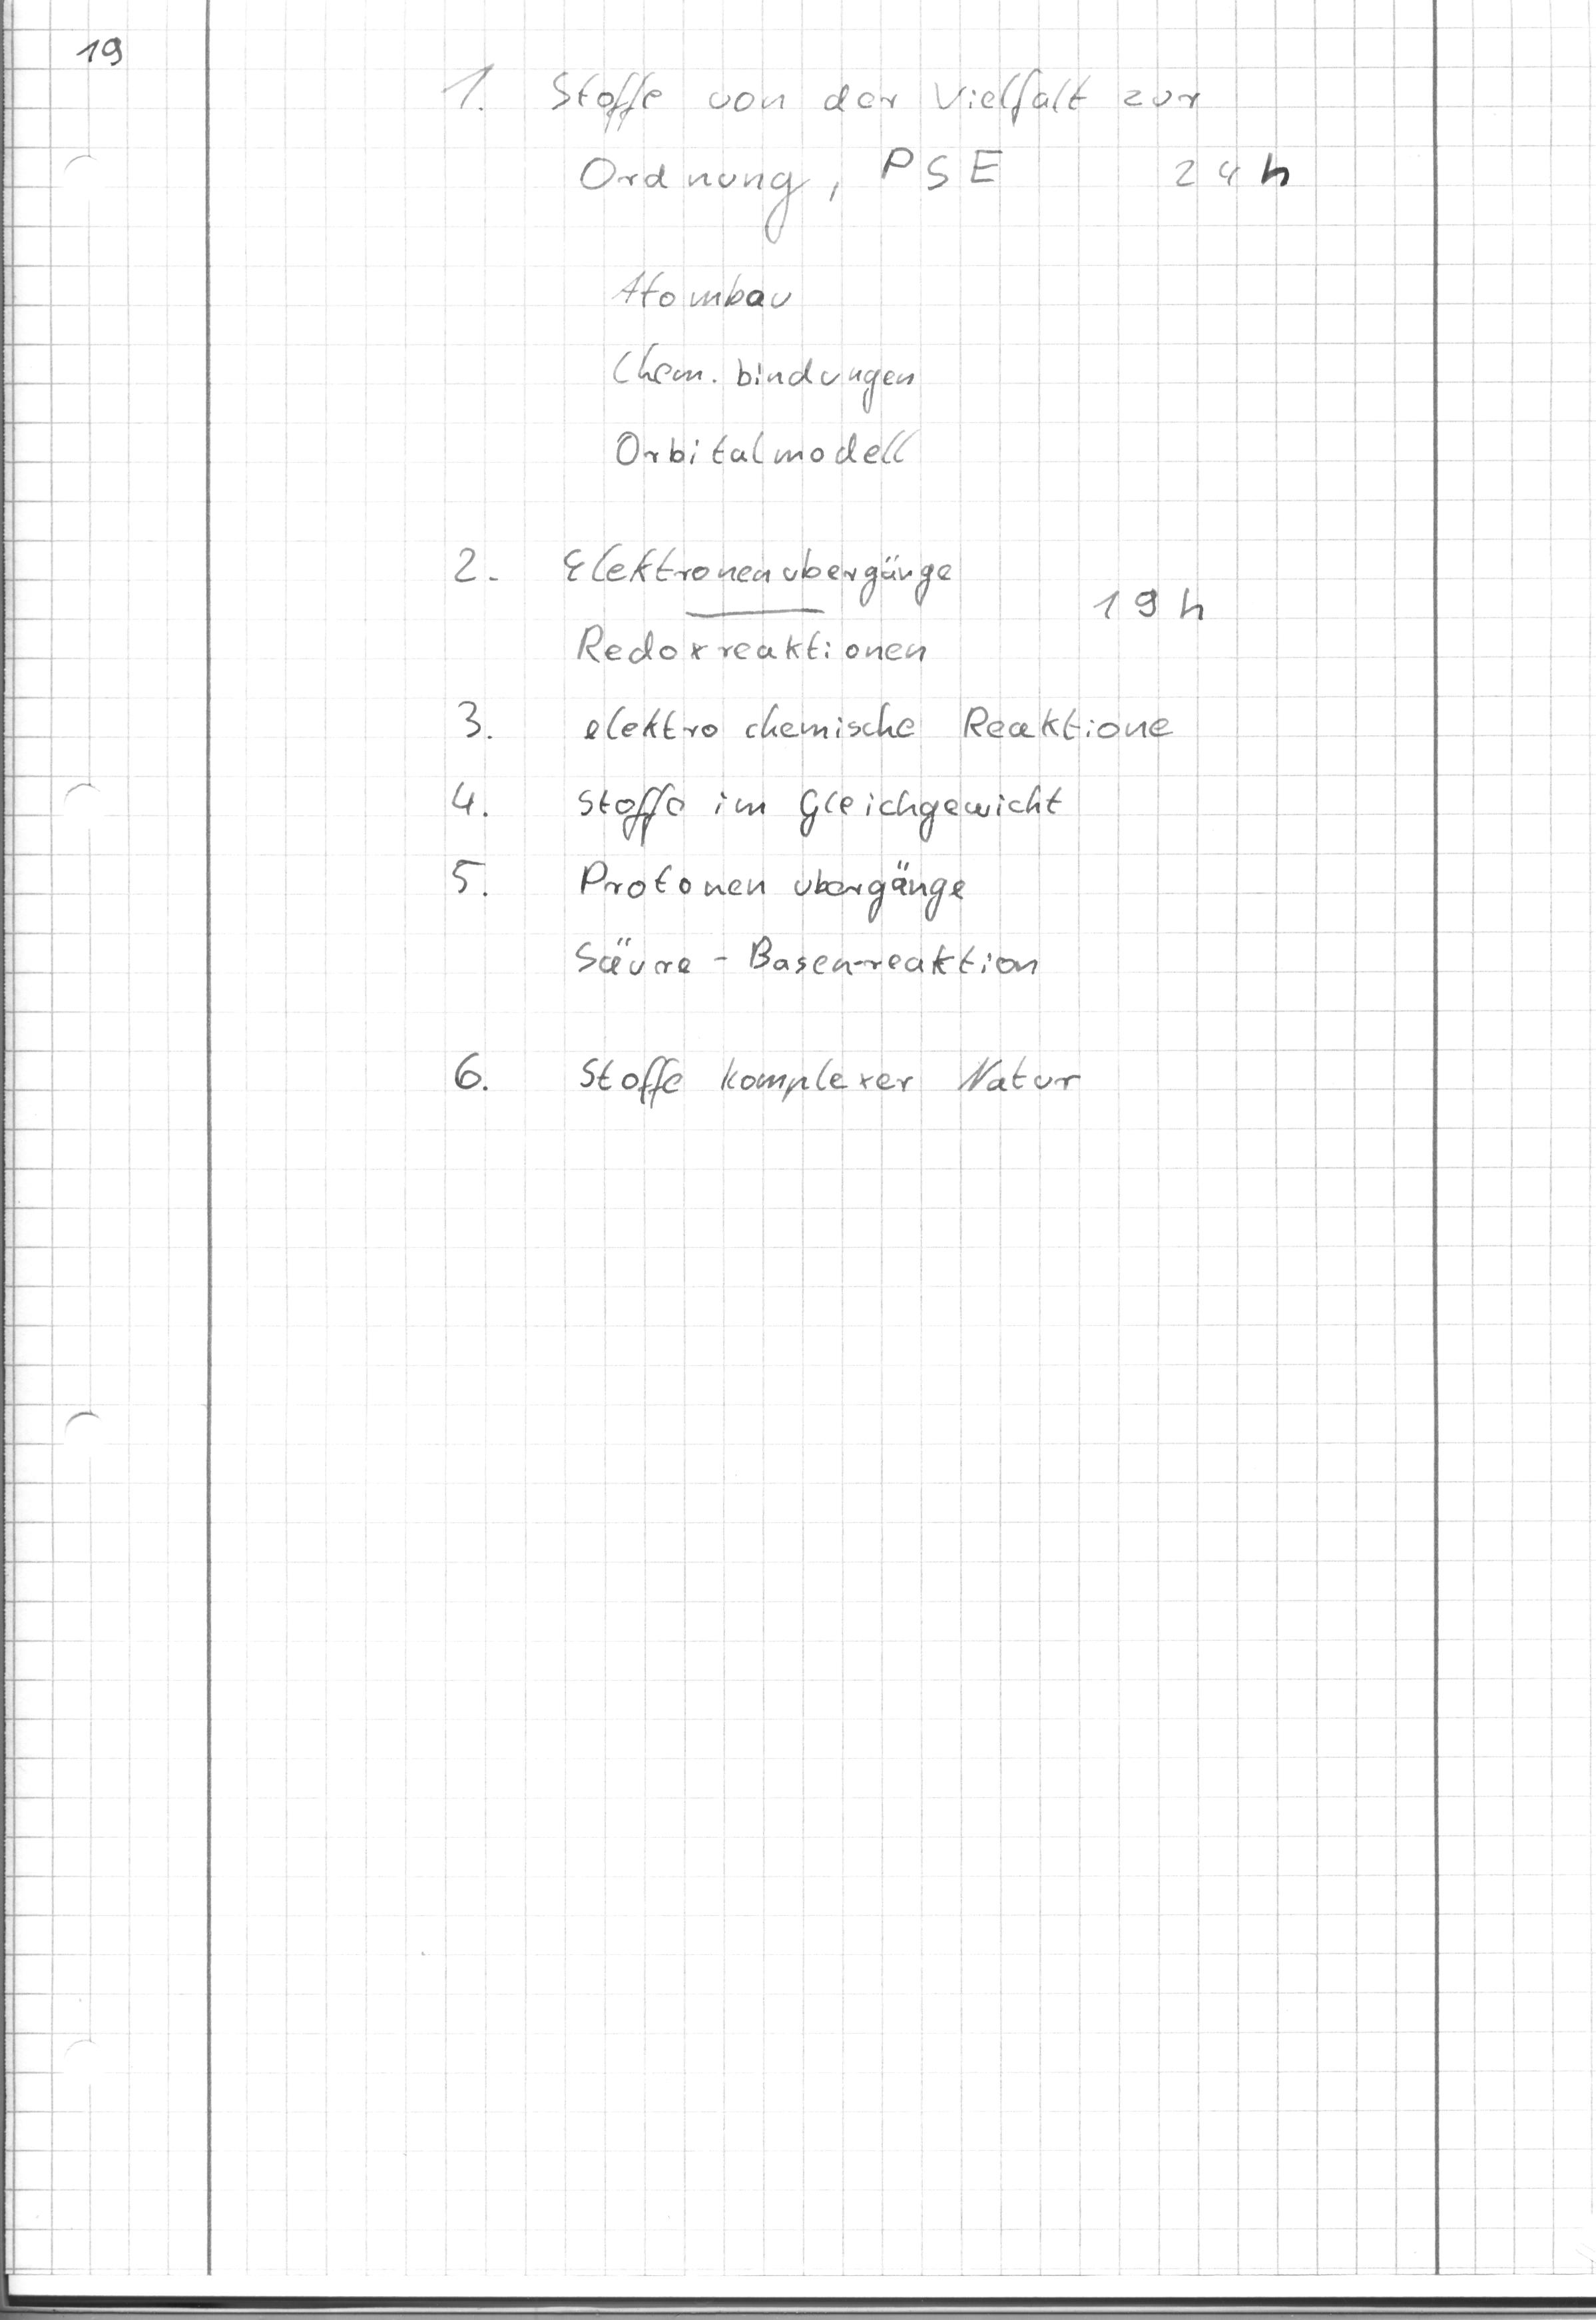word: (572, 136, 1296, 246), (431, 51, 1213, 140), (445, 1039, 1084, 1115), (441, 770, 1075, 846), (443, 689, 1183, 753), (448, 850, 980, 931), (439, 537, 960, 617), (555, 916, 1046, 979), (558, 608, 942, 681), (601, 335, 927, 416), (606, 417, 930, 479), (603, 258, 804, 324), (1073, 567, 1221, 641)
